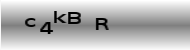4: (39, 21, 54, 35)
B: (66, 11, 81, 25)
R: (94, 17, 109, 31)
c: (23, 17, 37, 27)
k: (52, 10, 67, 24)
